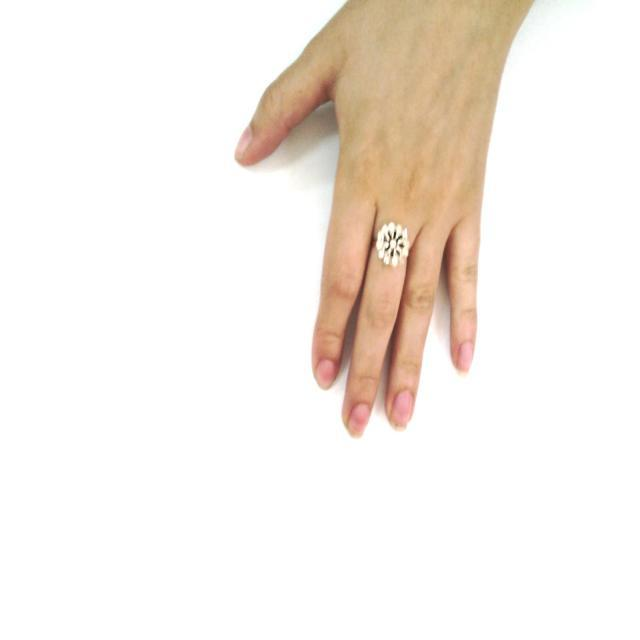Fingernail: (392, 392, 412, 429), (349, 404, 370, 438), (234, 127, 251, 156), (318, 360, 335, 387), (458, 343, 472, 374)
